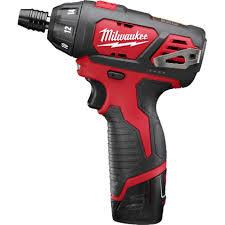screwdriver: (17, 0, 207, 224)
